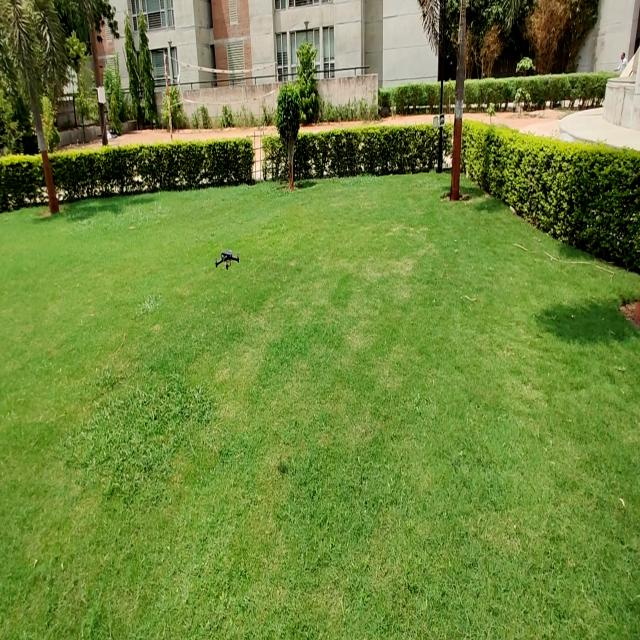drone: (206, 240, 247, 281)
